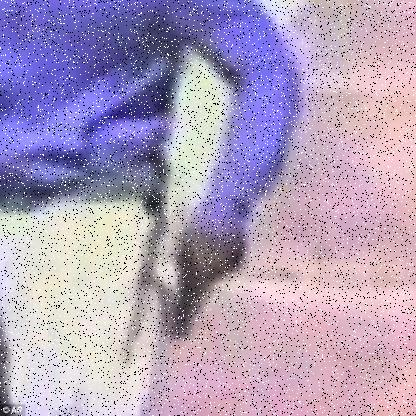pistol: (159, 231, 246, 343)
